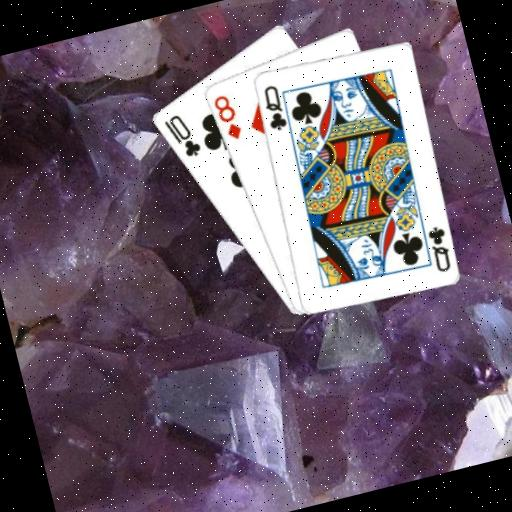10C: (159, 107, 204, 164)
8D: (209, 90, 245, 145)
QC: (257, 81, 290, 135), (422, 221, 455, 275)
